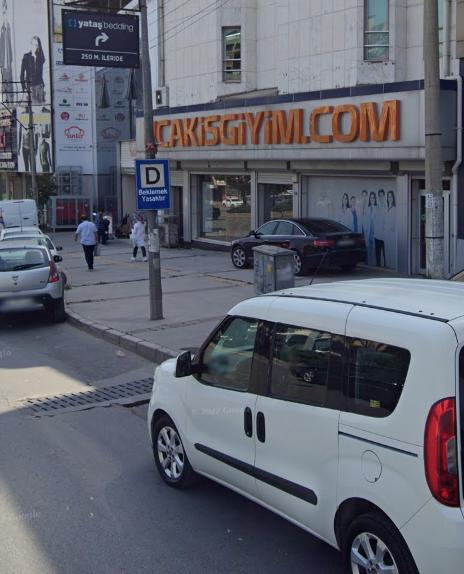station: (141, 165, 166, 188)
